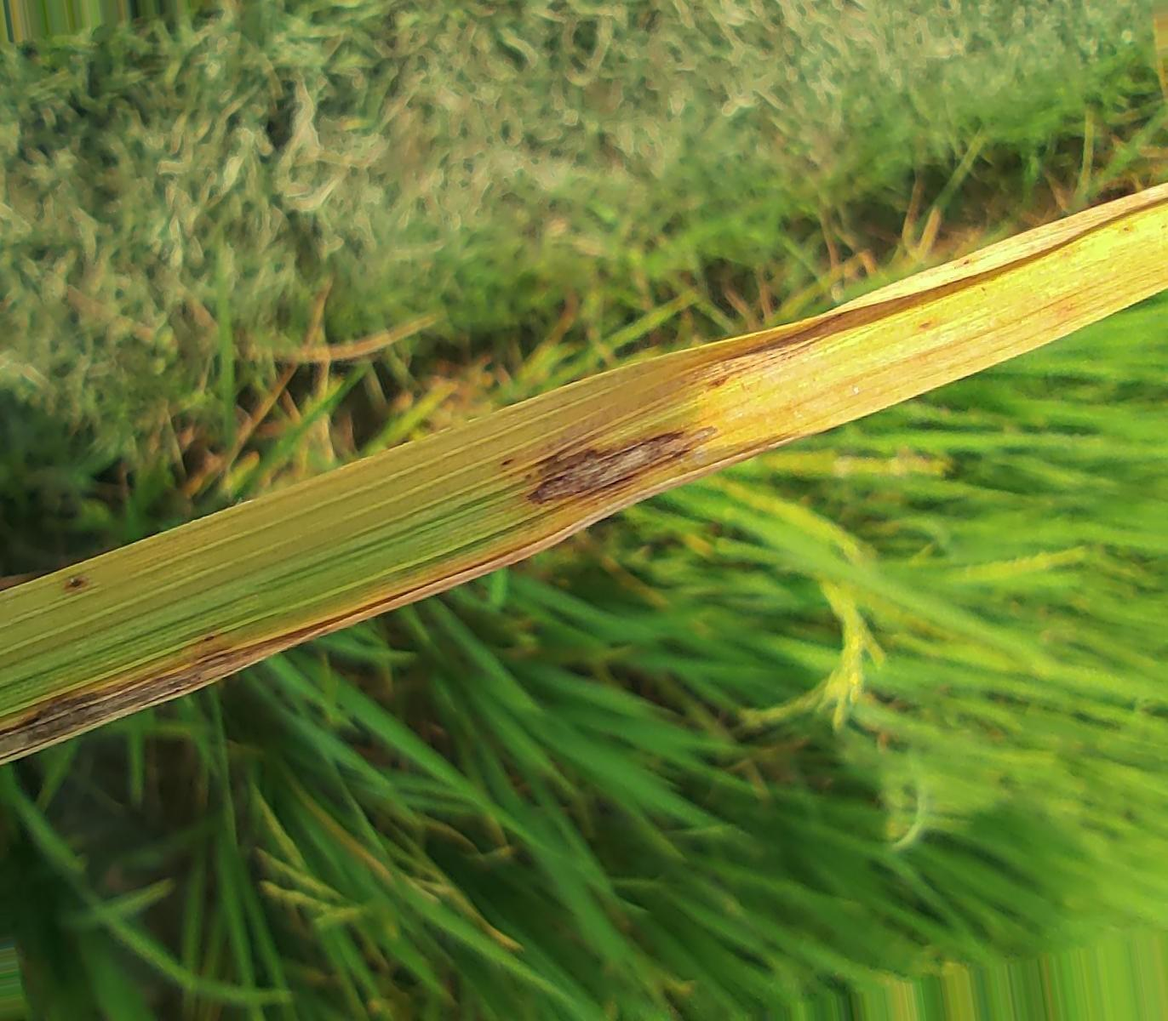LEAF BLAST: (529, 428, 715, 501)
